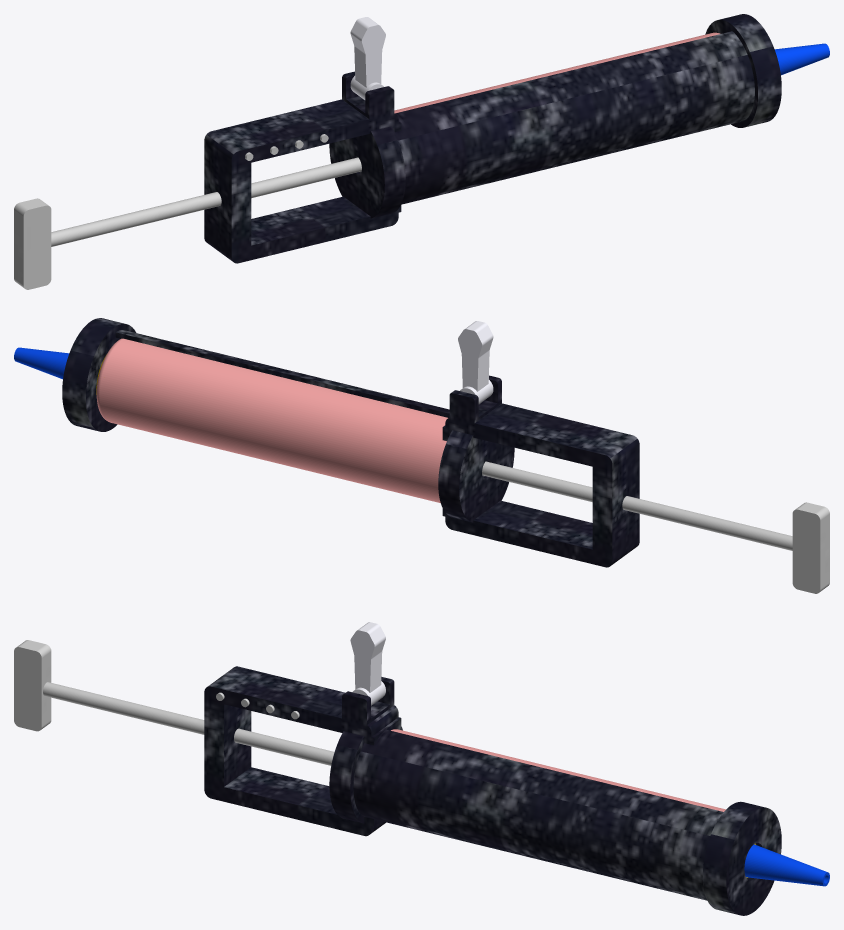
File: Handtools_caulking_gun__0033.glb
3 views of the same model, one above another, from view 1: azimuth 30°, elevation 25°; view 2: azimuth 150°, elevation 25°; view 3: azimuth 330°, elevation 25° (orthographic).
Visible parts, largest first — view 1: frame::frame_shell, plunger::plunger_rod, trigger::trigger_blade, cartridge::cartridge_body, cartridge::nozzle; view 2: cartridge::cartridge_body, frame::frame_shell, plunger::plunger_rod, trigger::trigger_blade, cartridge::nozzle; view 3: frame::frame_shell, plunger::plunger_rod, trigger::trigger_blade, cartridge::nozzle, cartridge::cartridge_body.
Part boxes in pixels (left/top/right/bottom): frame::frame_shell: left=204, top=14, right=781, bottom=263; plunger::plunger_rod: left=14, top=157, right=361, bottom=289; trigger::trigger_blade: left=350, top=17, right=385, bottom=99; cartridge::cartridge_body: left=394, top=32, right=720, bottom=113; cartridge::nozzle: left=774, top=43, right=829, bottom=75; cartridge::cartridge_body: left=96, top=338, right=447, bottom=502; frame::frame_shell: left=62, top=318, right=639, bottom=567; plunger::plunger_rod: left=482, top=461, right=829, bottom=593; trigger::trigger_blade: left=458, top=321, right=493, bottom=403; cartridge::nozzle: left=14, top=347, right=69, bottom=379; frame::frame_shell: left=204, top=666, right=781, bottom=915; plunger::plunger_rod: left=14, top=640, right=334, bottom=765; trigger::trigger_blade: left=350, top=622, right=385, bottom=705; cartridge::nozzle: left=744, top=844, right=829, bottom=886; cartridge::cartridge_body: left=391, top=729, right=725, bottom=811.
Size of the model in its own units: 0.5806 by 0.135 by 0.069.
Materials: 6 (4 with a texture image).
